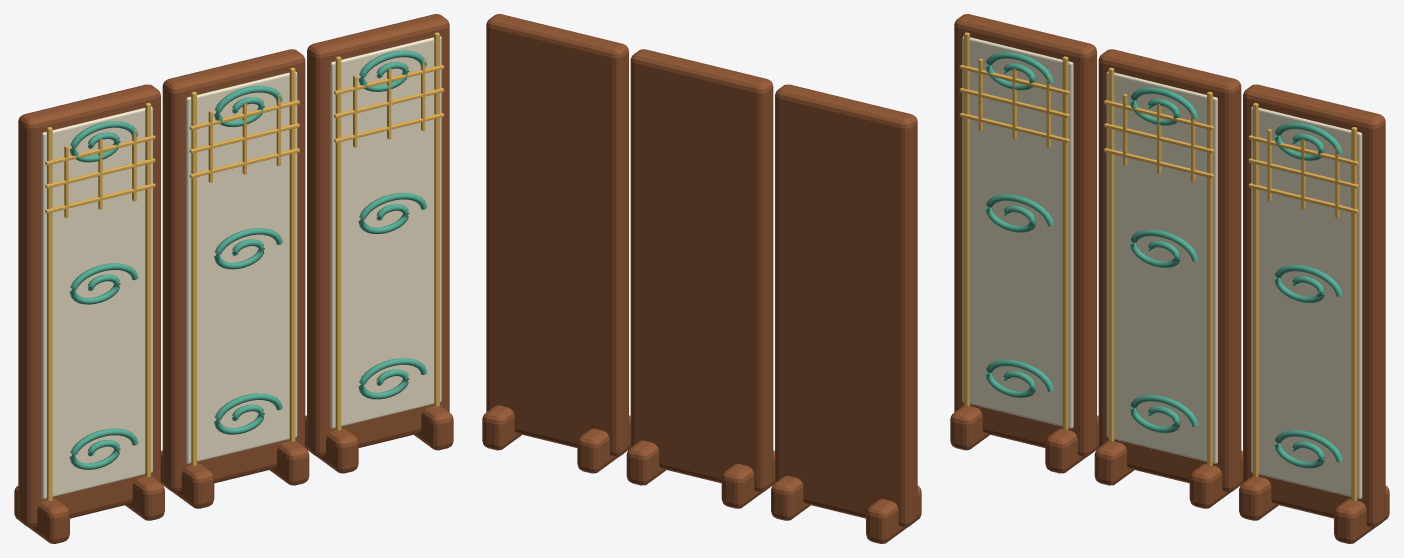
Rendered from stage-screen.glb.
The picture shows the model from 3 angles, left to right: view 1: azimuth 30°, elevation 25°; view 2: azimuth 150°, elevation 25°; view 3: azimuth 330°, elevation 25°; orthographic projection.
Parts seen in each view (by area): view 1: stage-screen; view 2: stage-screen; view 3: stage-screen.
Boxes of the visible parts, x1,y1,x2,y2 form: stage-screen: (14,14,453,543); stage-screen: (482,14,921,543); stage-screen: (950,14,1389,543).
Bounding box in the file's own units: 2.5 × 2.35 × 0.4.
